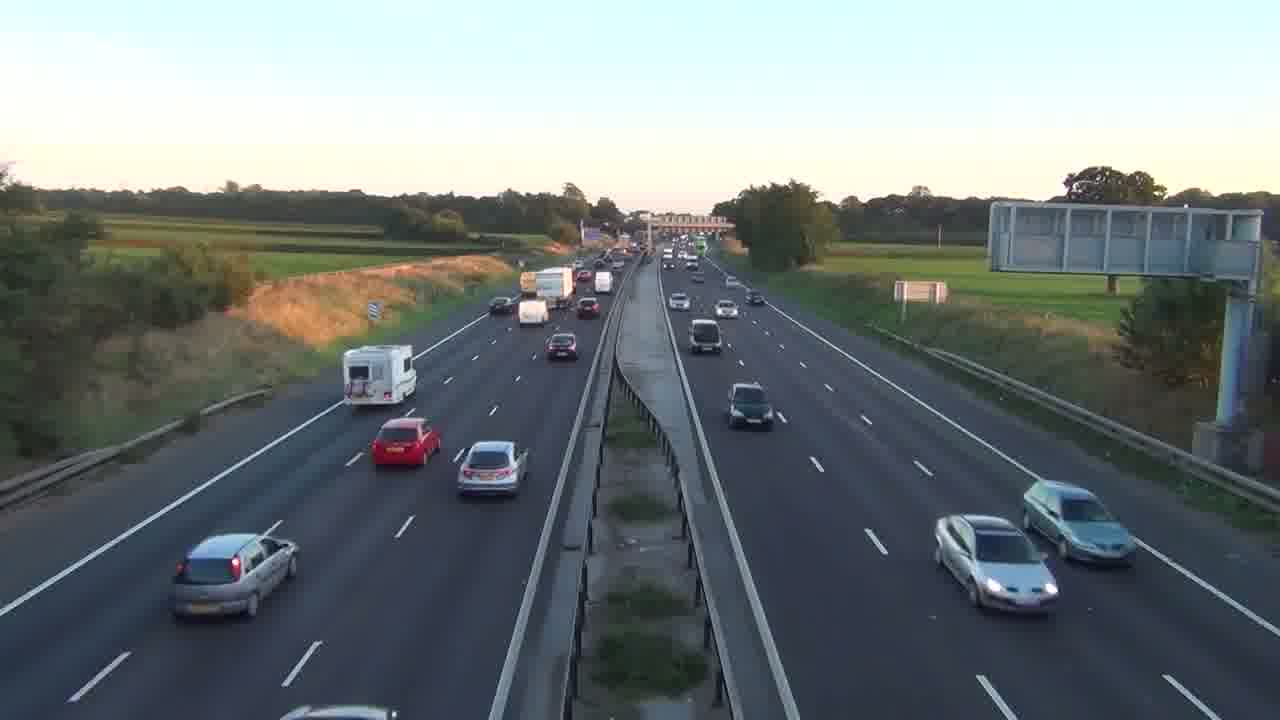bus: (341, 344, 417, 408)
car: (167, 521, 301, 623), (933, 512, 1060, 616), (1022, 478, 1138, 567), (453, 440, 532, 499), (370, 415, 442, 469), (727, 380, 773, 431), (545, 332, 578, 361), (714, 298, 739, 318), (669, 291, 691, 310)
truck: (341, 344, 417, 408), (534, 266, 575, 301)
